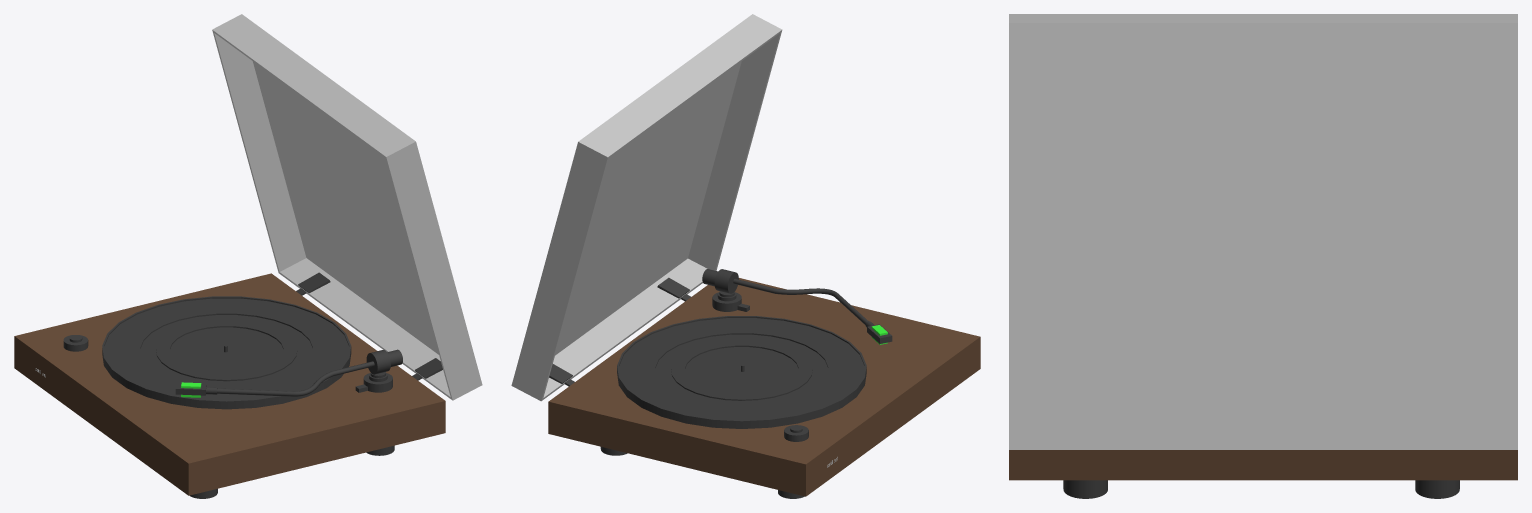
The model's file is Record player.glb.
The picture shows the model from 3 angles, left to right: view 1: azimuth 30°, elevation 25°; view 2: azimuth 150°, elevation 25°; view 3: azimuth 270°, elevation 25°; orthographic projection. The views are drawn at different scales.
Parts seen in each view (by area): view 1: Box20196, Box20189, Cylinder022, Line003; view 2: Box20196, Box20189, Cylinder022, Line003; view 3: Box20196, Box20189, Cylinder019, Cylinder018.
Part boxes in pixels (x1,y1,x2,y2): Box20196: [212, 14, 482, 400]; Box20189: [14, 273, 445, 495]; Cylinder022: [102, 296, 351, 409]; Line003: [217, 361, 374, 396]; Box20196: [511, 14, 782, 401]; Box20189: [548, 278, 980, 496]; Cylinder022: [617, 316, 866, 428]; Line003: [733, 278, 868, 324]; Box20196: [1009, 14, 1517, 449]; Box20189: [1009, 450, 1517, 480]; Cylinder019: [1063, 480, 1107, 498]; Cylinder018: [1415, 480, 1459, 498].
Size of the model in its own units: 1240 by 1307 by 1272.
